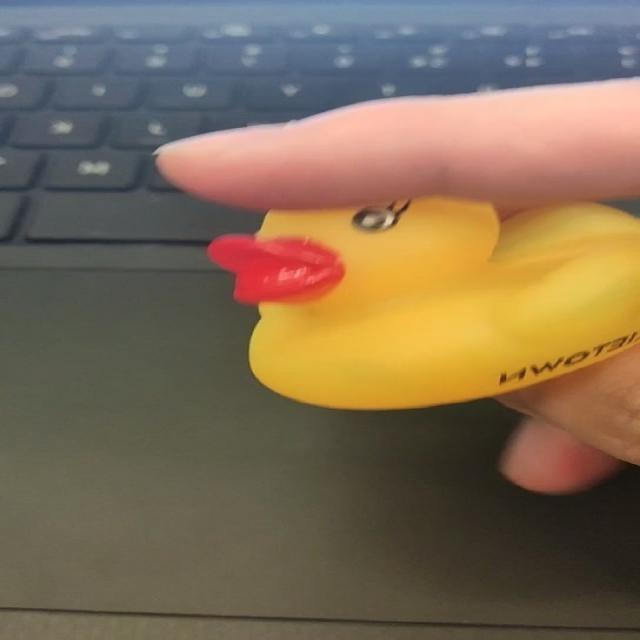rubber-duck: (248, 196, 638, 407)
